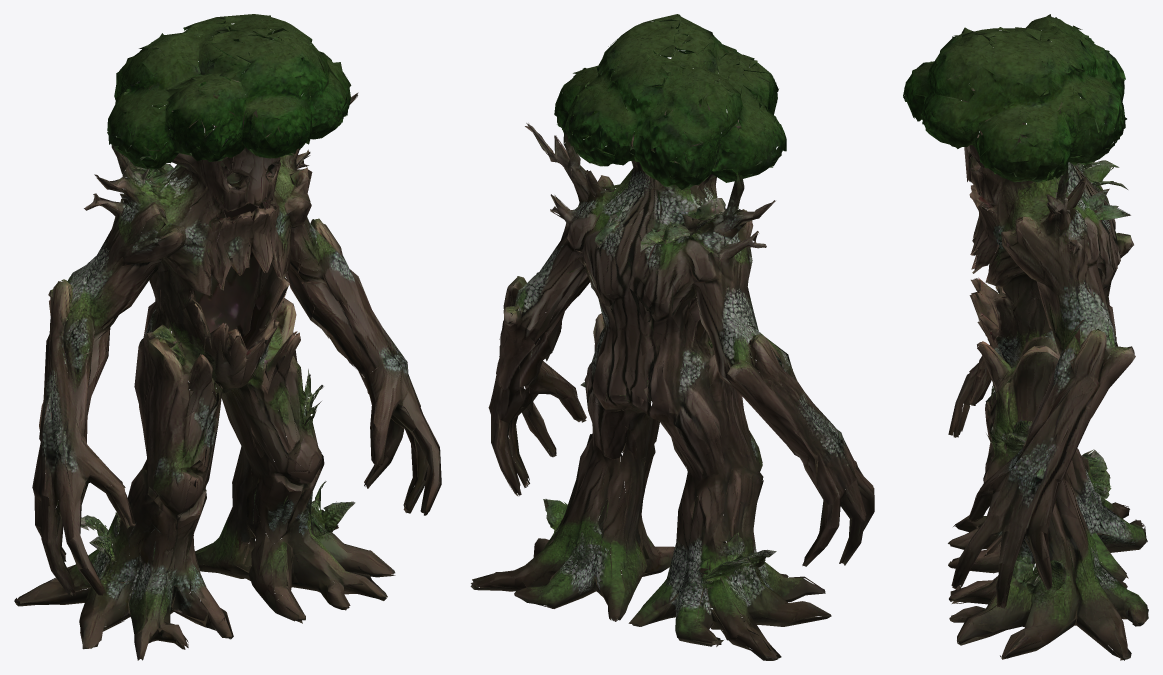
File: mesh_old_growth_a.glb
3 renders of one model, left to right at view 1: azimuth 30°, elevation 25°; view 2: azimuth 150°, elevation 25°; view 3: azimuth 270°, elevation 25°, orthographic. The views are drawn at different scales.
Visible parts, largest first — view 1: mesh_old_growth_a__Mesh_0; view 2: mesh_old_growth_a__Mesh_0; view 3: mesh_old_growth_a__Mesh_0.
Part boxes in pixels (<box>): mesh_old_growth_a__Mesh_0: <box>14,14,441,660</box>; mesh_old_growth_a__Mesh_0: <box>470,14,874,660</box>; mesh_old_growth_a__Mesh_0: <box>903,14,1148,660</box>.
Size of the model in its own units: 15.56 by 22.5 by 8.88.
1 material, 1 textured.
